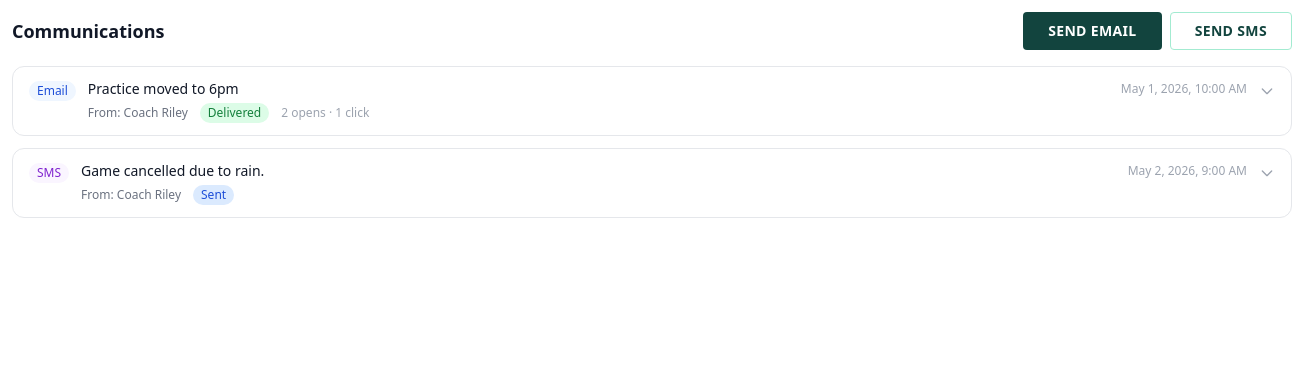
it: CommunicationHistory (CA-25) › expands an entry to show the full body
Expected: the text "Practice moved to 6pm" is shown, [88, 79, 239, 99]
Click the text "Game cancelled due to rain." at point(173, 171), box [81, 161, 264, 181]
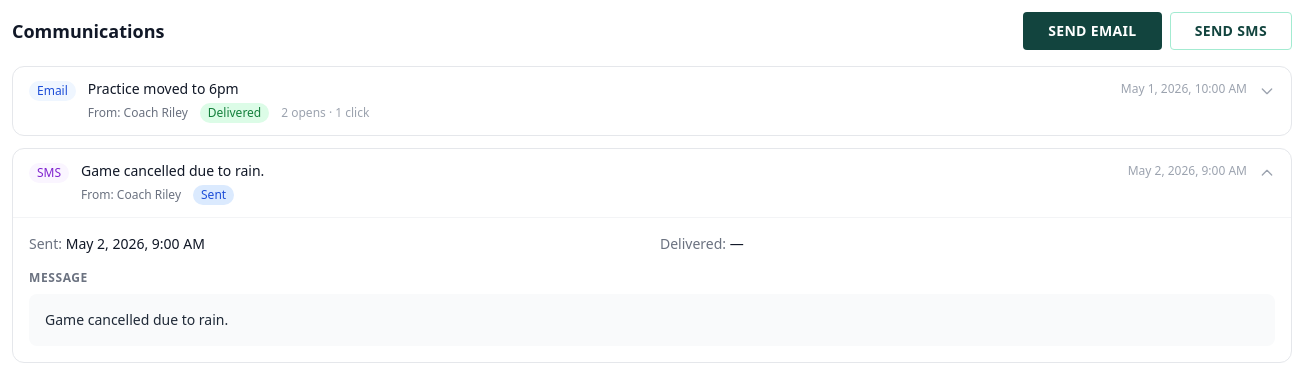
Expected: the text "Message" is shown, [29, 269, 88, 286]
